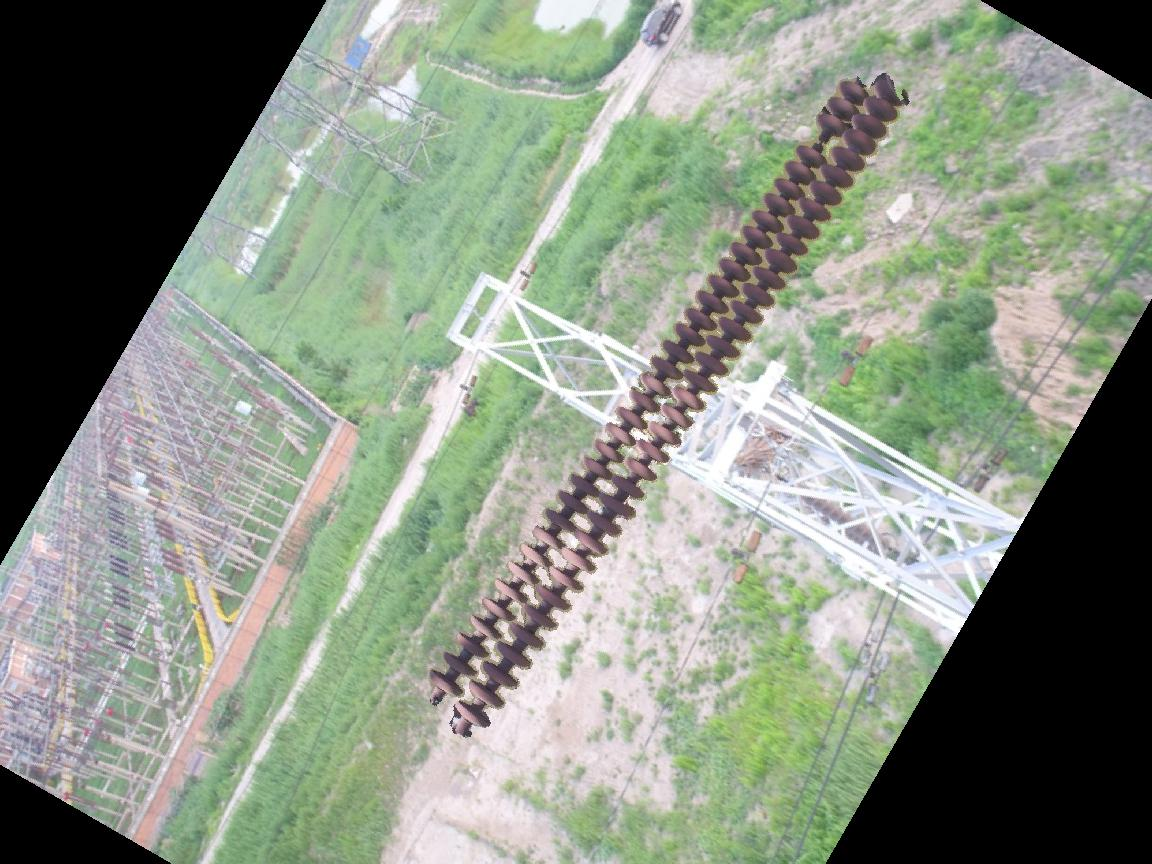insulator: (423, 66, 905, 732), (801, 493, 886, 549)
insulator_stringdrop: (792, 109, 848, 170)
